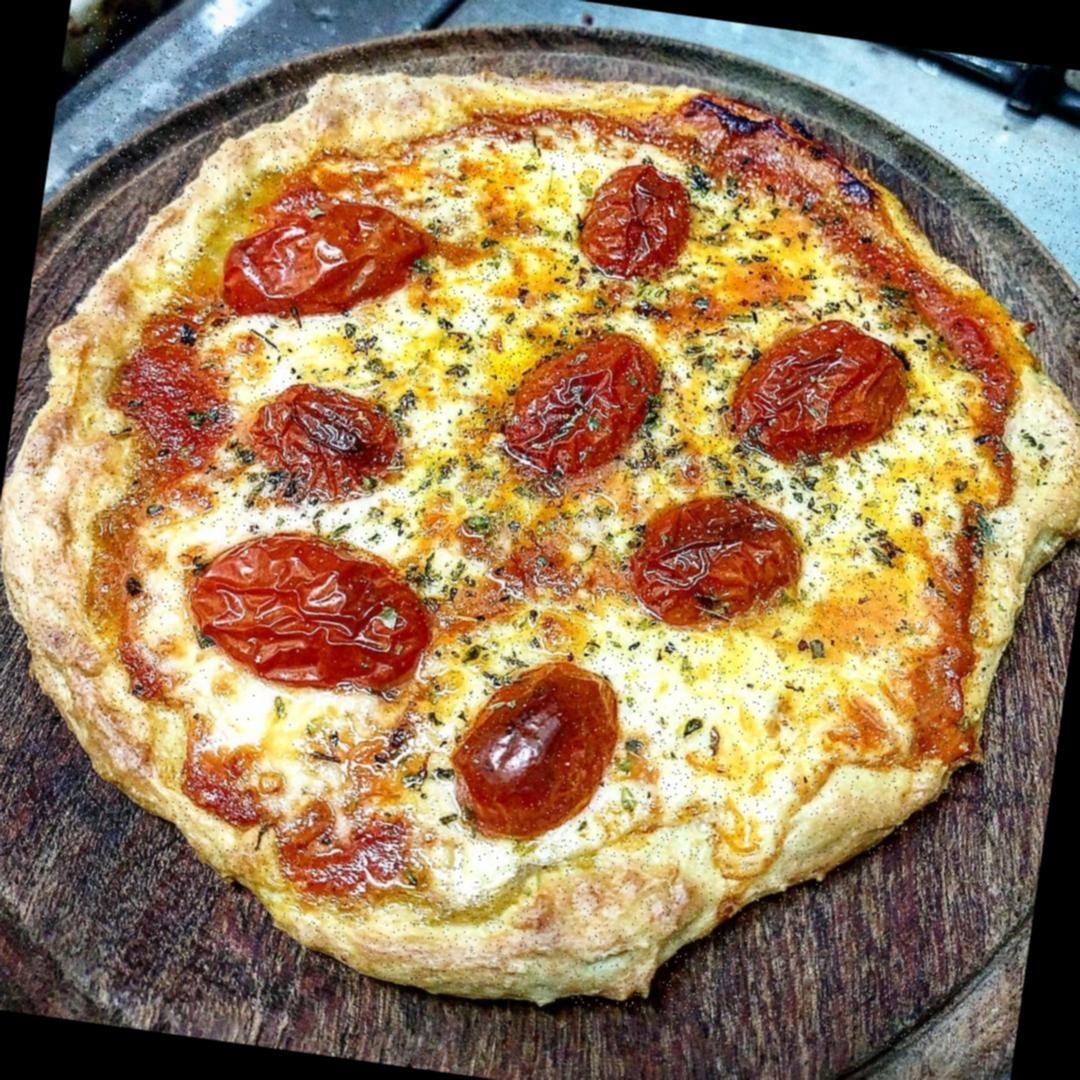Cheese: (385, 446, 662, 665), (795, 398, 989, 678), (190, 659, 448, 829), (418, 135, 584, 328), (244, 287, 484, 414), (625, 628, 800, 796)
Pizza: (0, 6, 1080, 1063)
Tomatoes: (174, 524, 435, 698), (192, 182, 452, 324), (435, 654, 625, 837), (494, 320, 677, 494), (631, 484, 805, 650), (734, 317, 906, 462), (112, 322, 236, 488), (566, 160, 694, 298), (243, 382, 402, 490)
